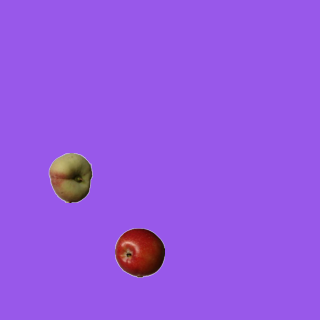Apple Braeburn: (114, 227, 164, 277)
Peach Flat: (45, 152, 95, 202)
